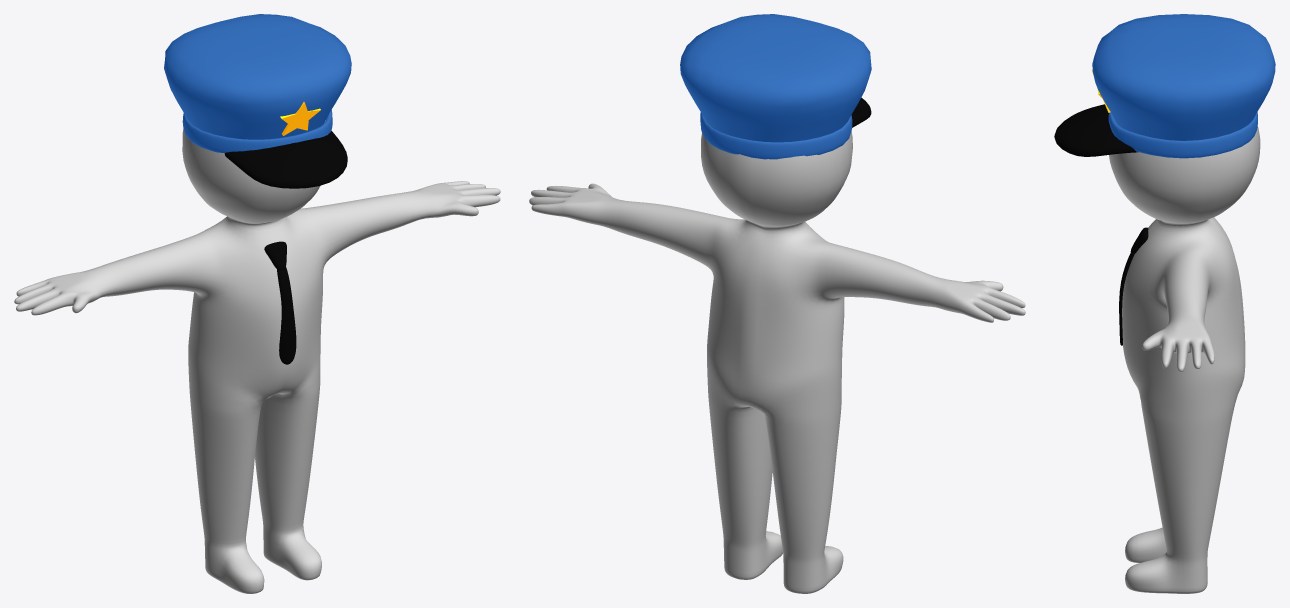
The model's file is StickmanPolice.fbx.
The picture shows the model from 3 angles, left to right: view 1: azimuth 30°, elevation 25°; view 2: azimuth 150°, elevation 25°; view 3: azimuth 270°, elevation 25°; orthographic projection. The views are drawn at different scales.
Parts seen in each view (by area): view 1: Body.001, Şapka, Kıravat.001; view 2: Body.001, Şapka; view 3: Body.001, Şapka, Kıravat.001.
Part boxes in pixels (box(x1,y1,x2,y2)): Body.001: box(14, 120, 500, 593); Şapka: box(164, 14, 351, 188); Kıravat.001: box(264, 241, 296, 364); Body.001: box(529, 131, 1025, 593); Şapka: box(680, 14, 871, 159); Body.001: box(1109, 126, 1260, 593); Şapka: box(1054, 14, 1275, 158); Kıravat.001: box(1119, 227, 1148, 345).
Bounding box in the file's own units: 218 × 225 × 84.87.
